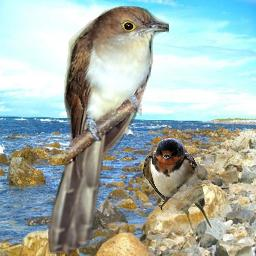Cuckoo: (48, 4, 169, 254)
Swallow: (143, 138, 212, 229)
